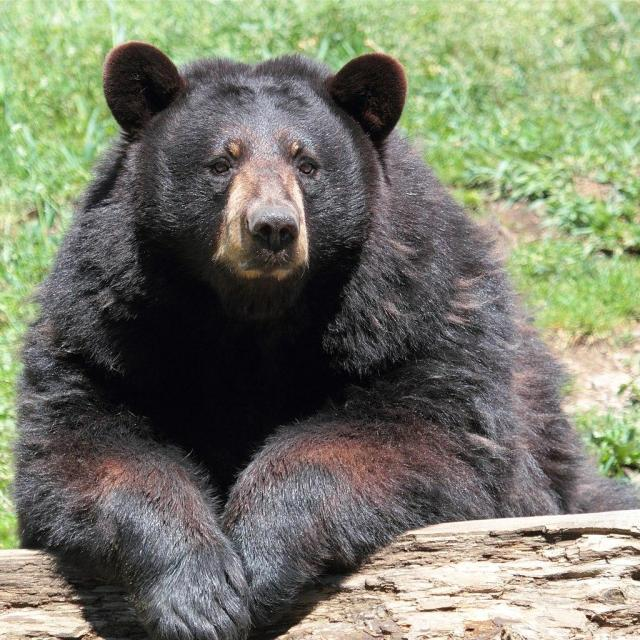Bear: (14, 41, 612, 640)
